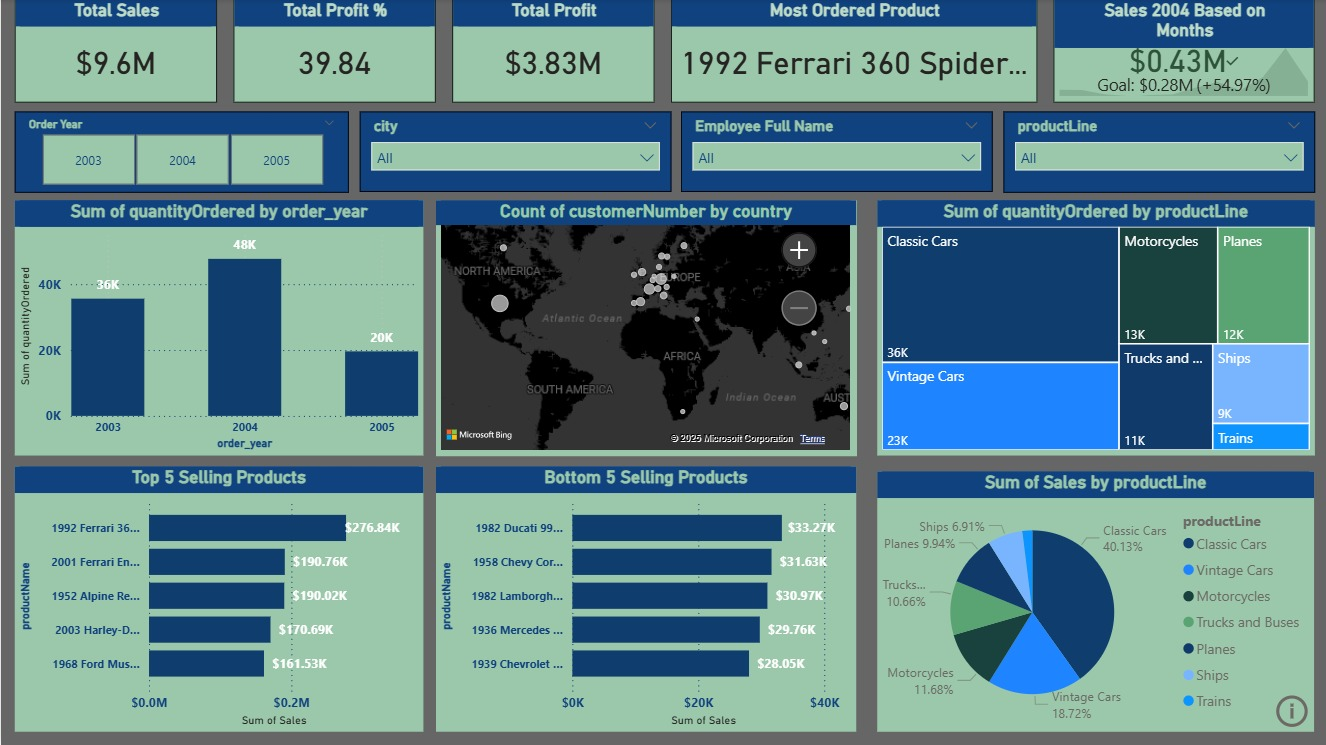

Layout of this report page (visuals, bound fields, positions):
{"tool":"powerbi","page":{"name":"Page 1","canvas":[1280,720],"ordinal":0},"visuals":[{"type":"barChart","title":"Top 5 Selling Products","fields":{"Y":["order details.Sales"],"Category":["products.productName"]},"box":[13.3,451.2,394.5,255.8],"z":0},{"type":"pieChart","fields":{"Category":["products.productLine"],"Y":["order details.Sales"]},"box":[846,456.1,421.8,251.3],"z":1000},{"type":"slicer","fields":{"Values":["orders.order_year"]},"box":[13.3,108.6,322.1,78.4],"z":2000},{"type":"kpi","title":"Sales 2004 Based on Months","fields":{"TrendLine":["orders.Month Name"],"Goal":["orders.sales_2003"],"Indicator":["orders.sales_2004"]},"box":[1015.8,0,252.1,100.1],"z":3000},{"type":"card","title":"Total Profit","fields":{"Values":["order details.total_profit"]},"box":[435.5,0,195.4,100.1],"z":4000},{"type":"map","fields":{"Size":["customers.customerNumber"],"Category":["customers.country"]},"box":[419.8,194.2,413.8,246.1],"z":5000},{"type":"treemap","fields":{"Group":["productlines.productLine"],"Values":["order details.quantityOrdered"]},"box":[845.7,194.2,422.3,246.1],"z":6000},{"type":"clusteredColumnChart","fields":{"Category":["orders.order_year"],"Y":["order details.quantityOrdered"]},"box":[13.3,194.2,394.5,246.1],"z":7000},{"type":"card","title":"Most Ordered Product","fields":{"Values":["order details.MostOrderedProduct"]},"box":[646.7,0,353.5,100.1],"z":8000},{"type":"card","title":"Total Profit %","fields":{"Values":["classic_models_dataset.Profit_Margin_%"]},"box":[224.4,0,195.4,100.1],"z":9000},{"type":"card","title":"Total Sales","fields":{"Values":["order details.Sales"]},"box":[13.3,0,195.4,100.1],"z":10000},{"type":"slicer","fields":{"Values":["offices.city"]},"box":[346.2,108.6,300.4,77.2],"z":11000},{"type":"slicer","fields":{"Values":["employees.Full Name"]},"box":[656.3,108.6,300.4,77.2],"z":12000},{"type":"slicer","fields":{"Values":["productlines.productLine"]},"box":[967.6,108.6,300.4,78.4],"z":13000},{"type":"barChart","title":"Bottom 5 Selling Products","fields":{"Y":["order details.Sales"],"Category":["products.productName"]},"box":[419.8,451.2,413.8,255.8],"z":14000},{"type":"actionButton","box":[1226.1,667,41.7,40.5],"z":15000}]}

Visuals, with their boxes in screenshot pixels (x1, y1, x2, y2), scaled from the page's 1280x720 canvas onto the 1326x745 screenshot:
"Top 5 Selling Products" barChart: bbox=(14, 467, 422, 732)
pieChart - products.productLine x order details.Sales: bbox=(876, 472, 1313, 732)
slicer - orders.order_year: bbox=(14, 112, 347, 193)
"Sales 2004 Based on Months" kpi: bbox=(1052, 0, 1313, 104)
"Total Profit" card: bbox=(451, 0, 654, 104)
map - customers.customerNumber x customers.country: bbox=(435, 201, 864, 456)
treemap - productlines.productLine x order details.quantityOrdered: bbox=(876, 201, 1314, 456)
clusteredColumnChart - orders.order_year x order details.quantityOrdered: bbox=(14, 201, 422, 456)
"Most Ordered Product" card: bbox=(670, 0, 1036, 104)
"Total Profit %" card: bbox=(232, 0, 435, 104)
"Total Sales" card: bbox=(14, 0, 216, 104)
slicer - offices.city: bbox=(359, 112, 670, 192)
slicer - employees.Full Name: bbox=(680, 112, 991, 192)
slicer - productlines.productLine: bbox=(1002, 112, 1314, 193)
"Bottom 5 Selling Products" barChart: bbox=(435, 467, 864, 732)
actionButton: bbox=(1270, 690, 1313, 732)
